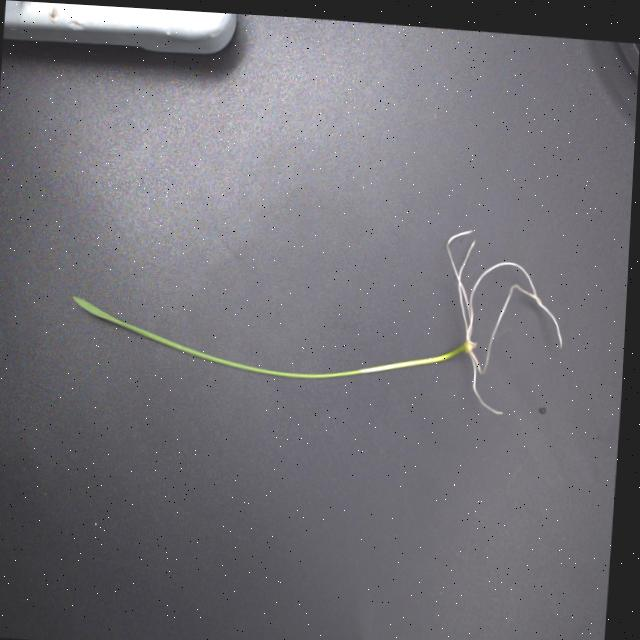leaf: (73, 292, 361, 386)
root: (443, 226, 570, 418)
steb: (363, 341, 466, 377)
